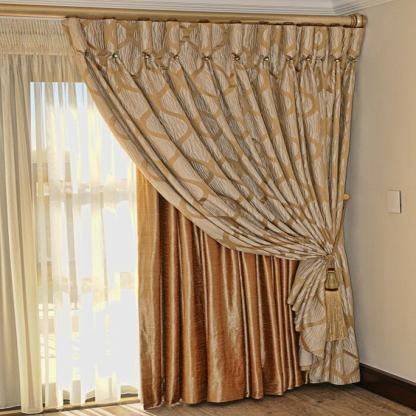Curtains: (0, 3, 368, 395)
